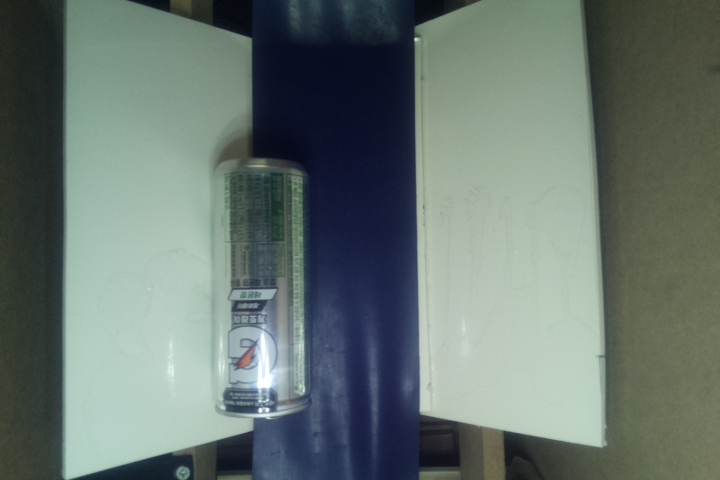can: (217, 157, 310, 421)
